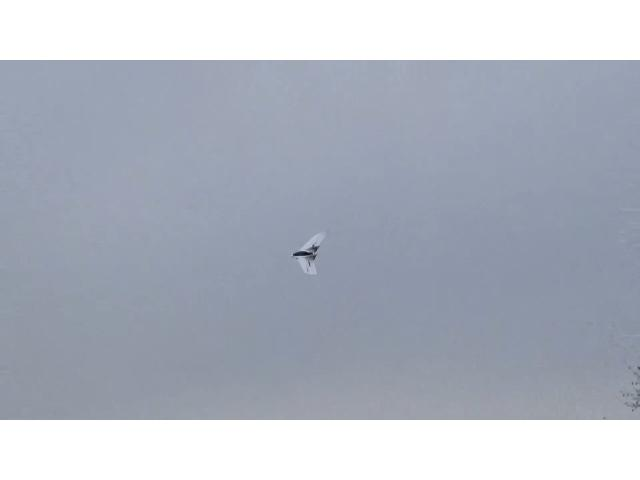Anti-Drone: (292, 230, 328, 274)
